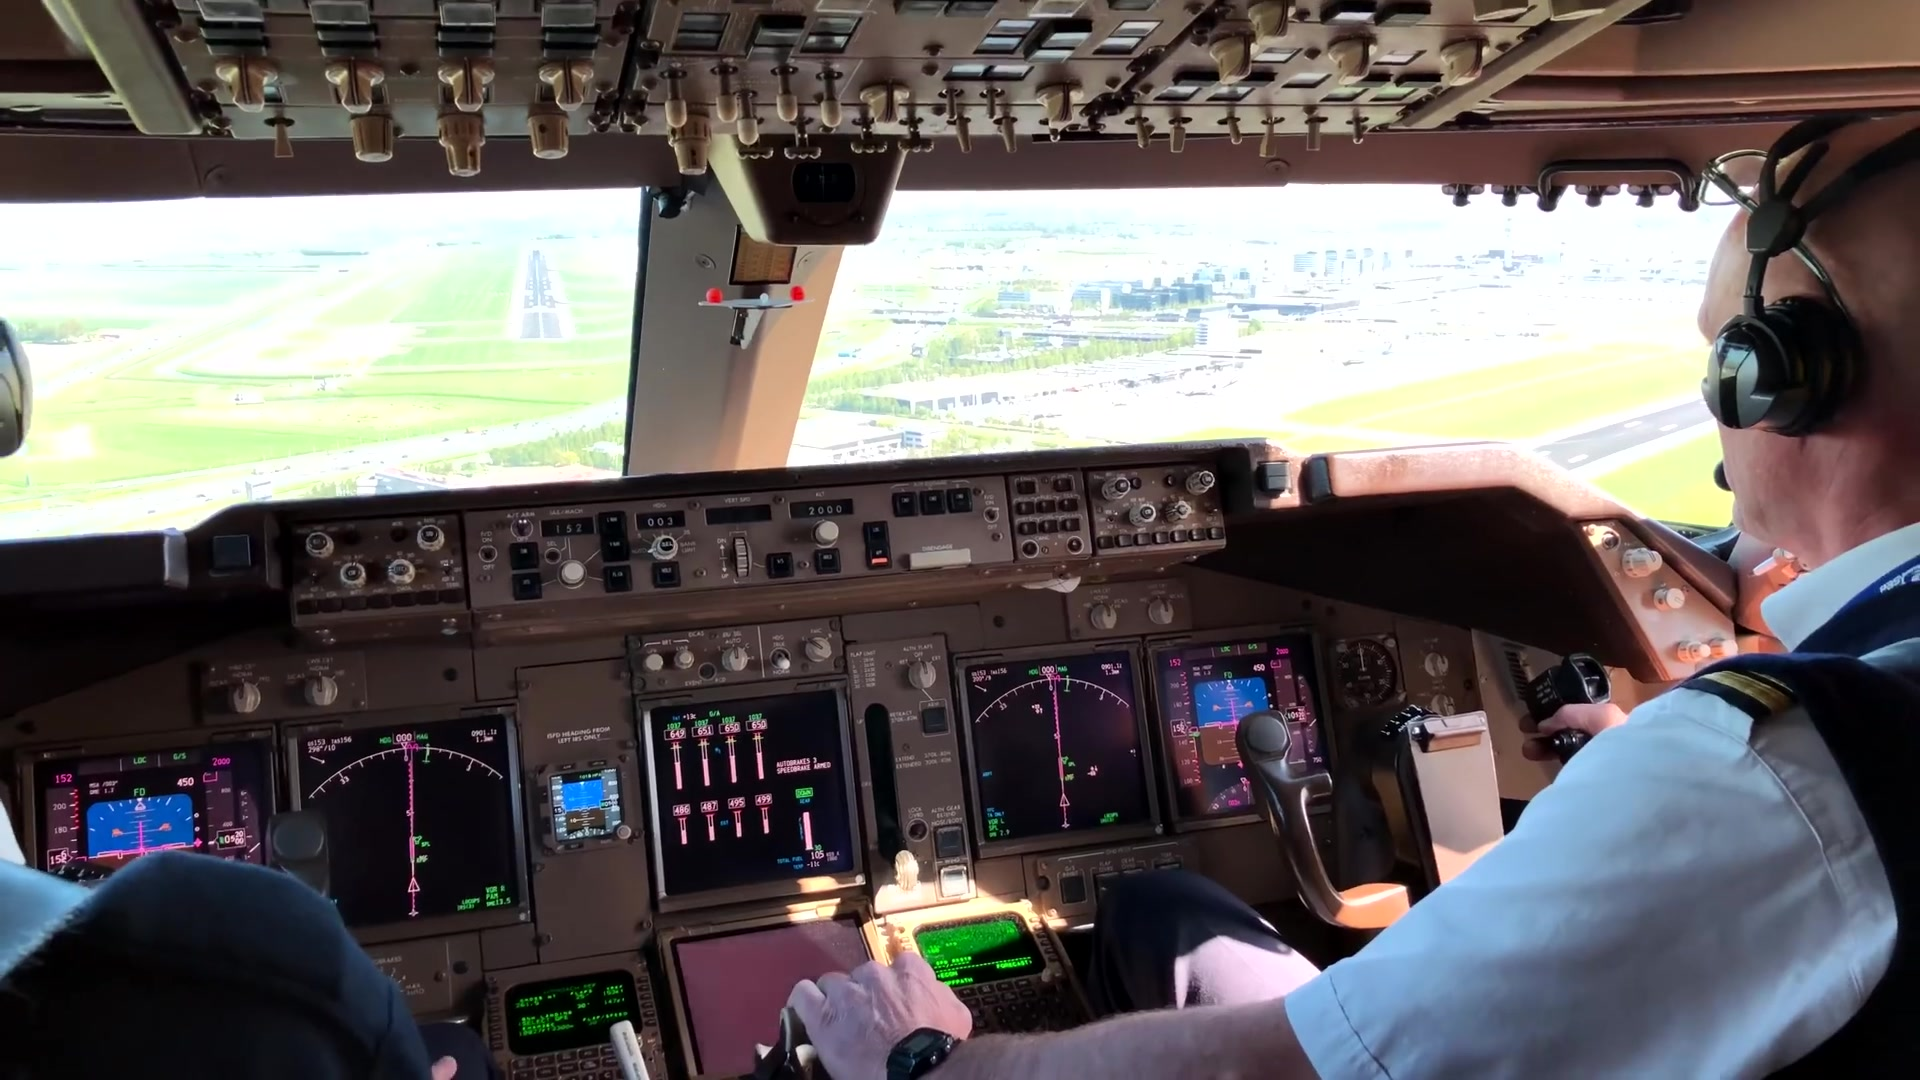runway: (517, 245, 560, 342)
